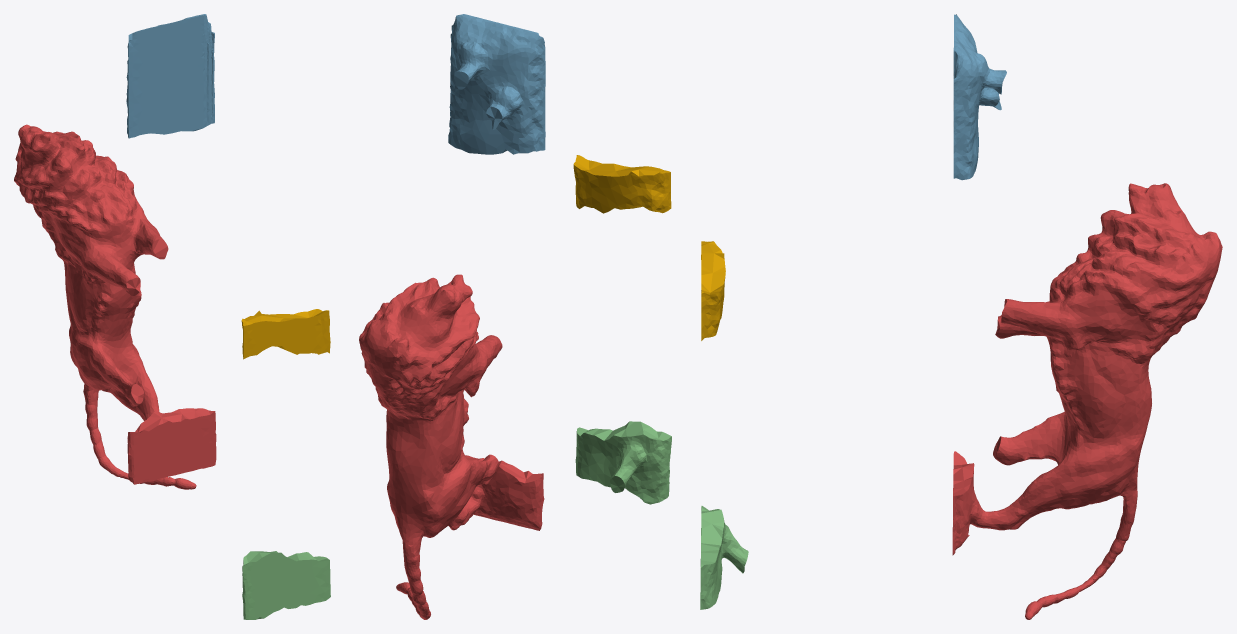
File: fractured_13_4pcs_transformed.glb
The picture shows the model from 3 angles, left to right: view 1: azimuth 30°, elevation 25°; view 2: azimuth 150°, elevation 25°; view 3: azimuth 270°, elevation 25°; orthographic projection. The views are drawn at different scales.
Parts seen in each view (by area): view 1: piece_1.obj, piece_2.obj, piece_3.obj, piece_0.obj; view 2: piece_1.obj, piece_2.obj, piece_3.obj, piece_0.obj; view 3: piece_1.obj, piece_2.obj, piece_3.obj, piece_0.obj.
Part boxes in pixels (x1,y1,x2,y2): piece_1.obj: (14, 124, 216, 489); piece_2.obj: (126, 14, 214, 138); piece_3.obj: (242, 551, 330, 619); piece_0.obj: (241, 309, 330, 359); piece_1.obj: (359, 274, 544, 619); piece_2.obj: (448, 14, 545, 154); piece_3.obj: (575, 421, 671, 504); piece_0.obj: (573, 155, 671, 213); piece_1.obj: (952, 183, 1222, 619); piece_2.obj: (953, 14, 1006, 180); piece_3.obj: (700, 506, 748, 609); piece_0.obj: (701, 241, 725, 340).
Bounding box in the file's own units: 0.3667 × 1.48 × 1.24.
